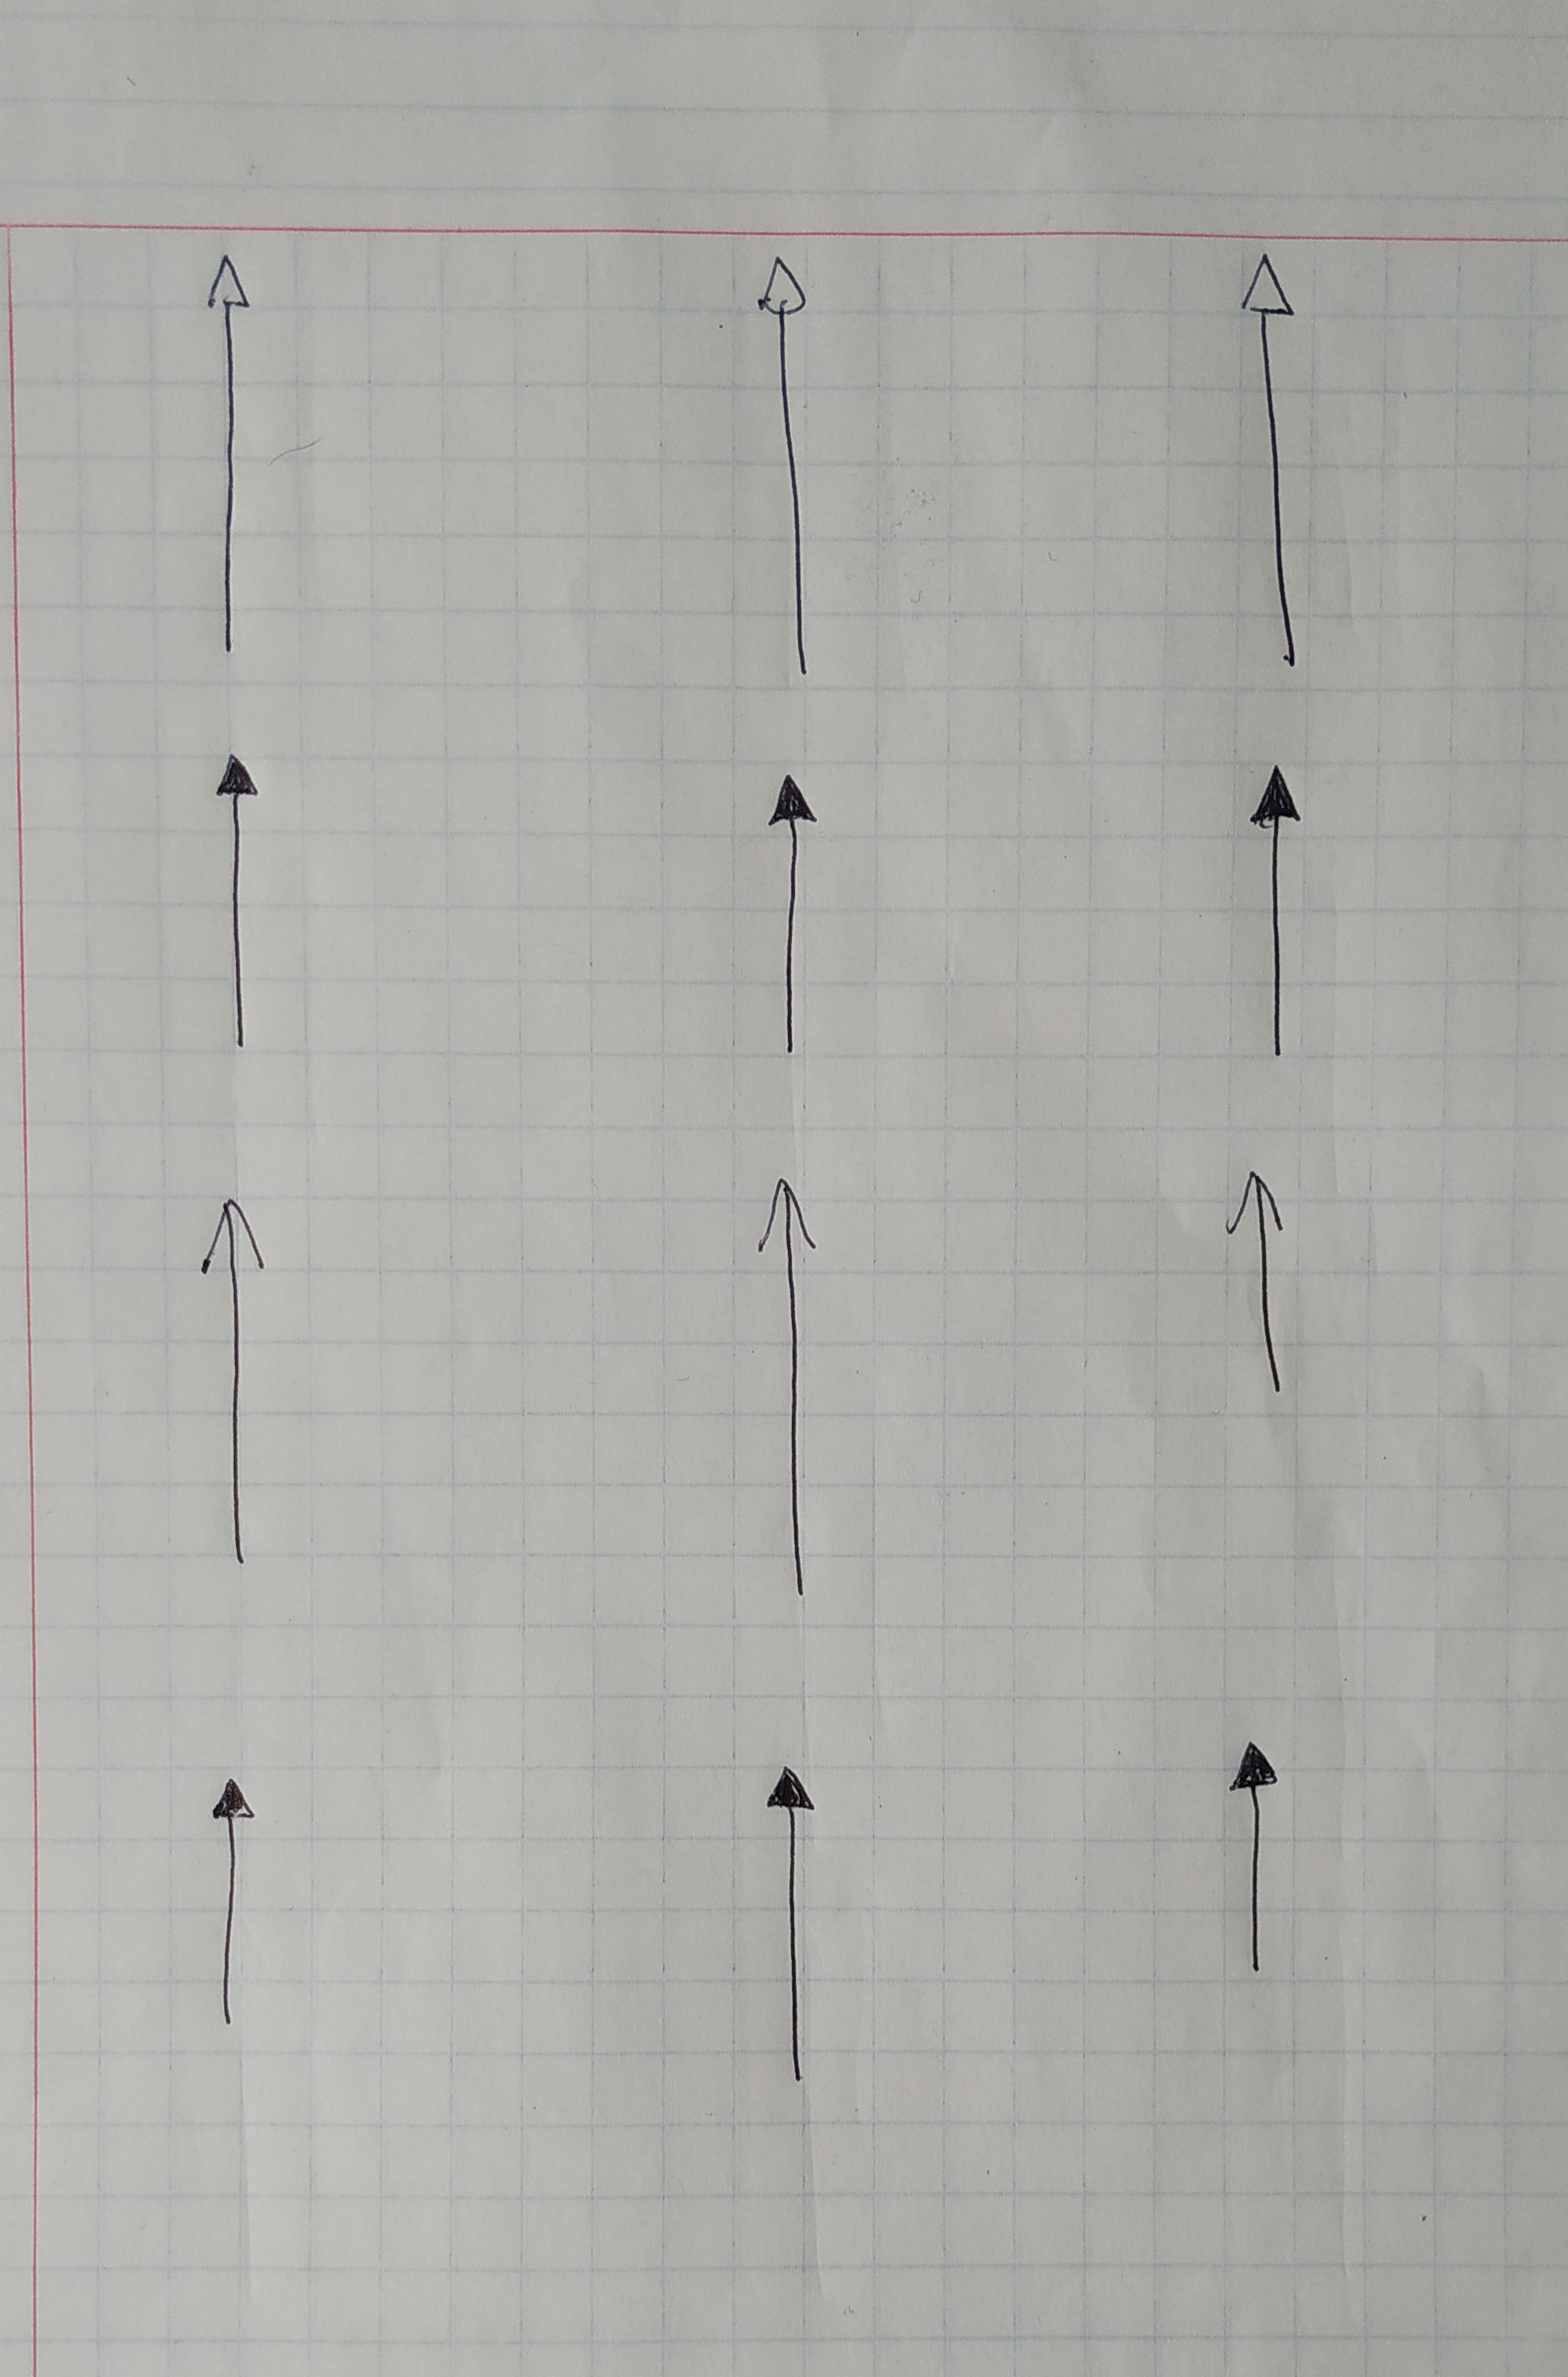arrow_line_up: (1237, 248, 1314, 677), (758, 257, 823, 684), (758, 1175, 821, 1602), (196, 1198, 268, 1564), (763, 1767, 824, 2087), (205, 257, 250, 661), (1251, 764, 1307, 1060), (1225, 1172, 1297, 1398), (768, 768, 816, 1058), (213, 754, 257, 1051), (1228, 1739, 1277, 1982), (210, 1777, 252, 2032)
